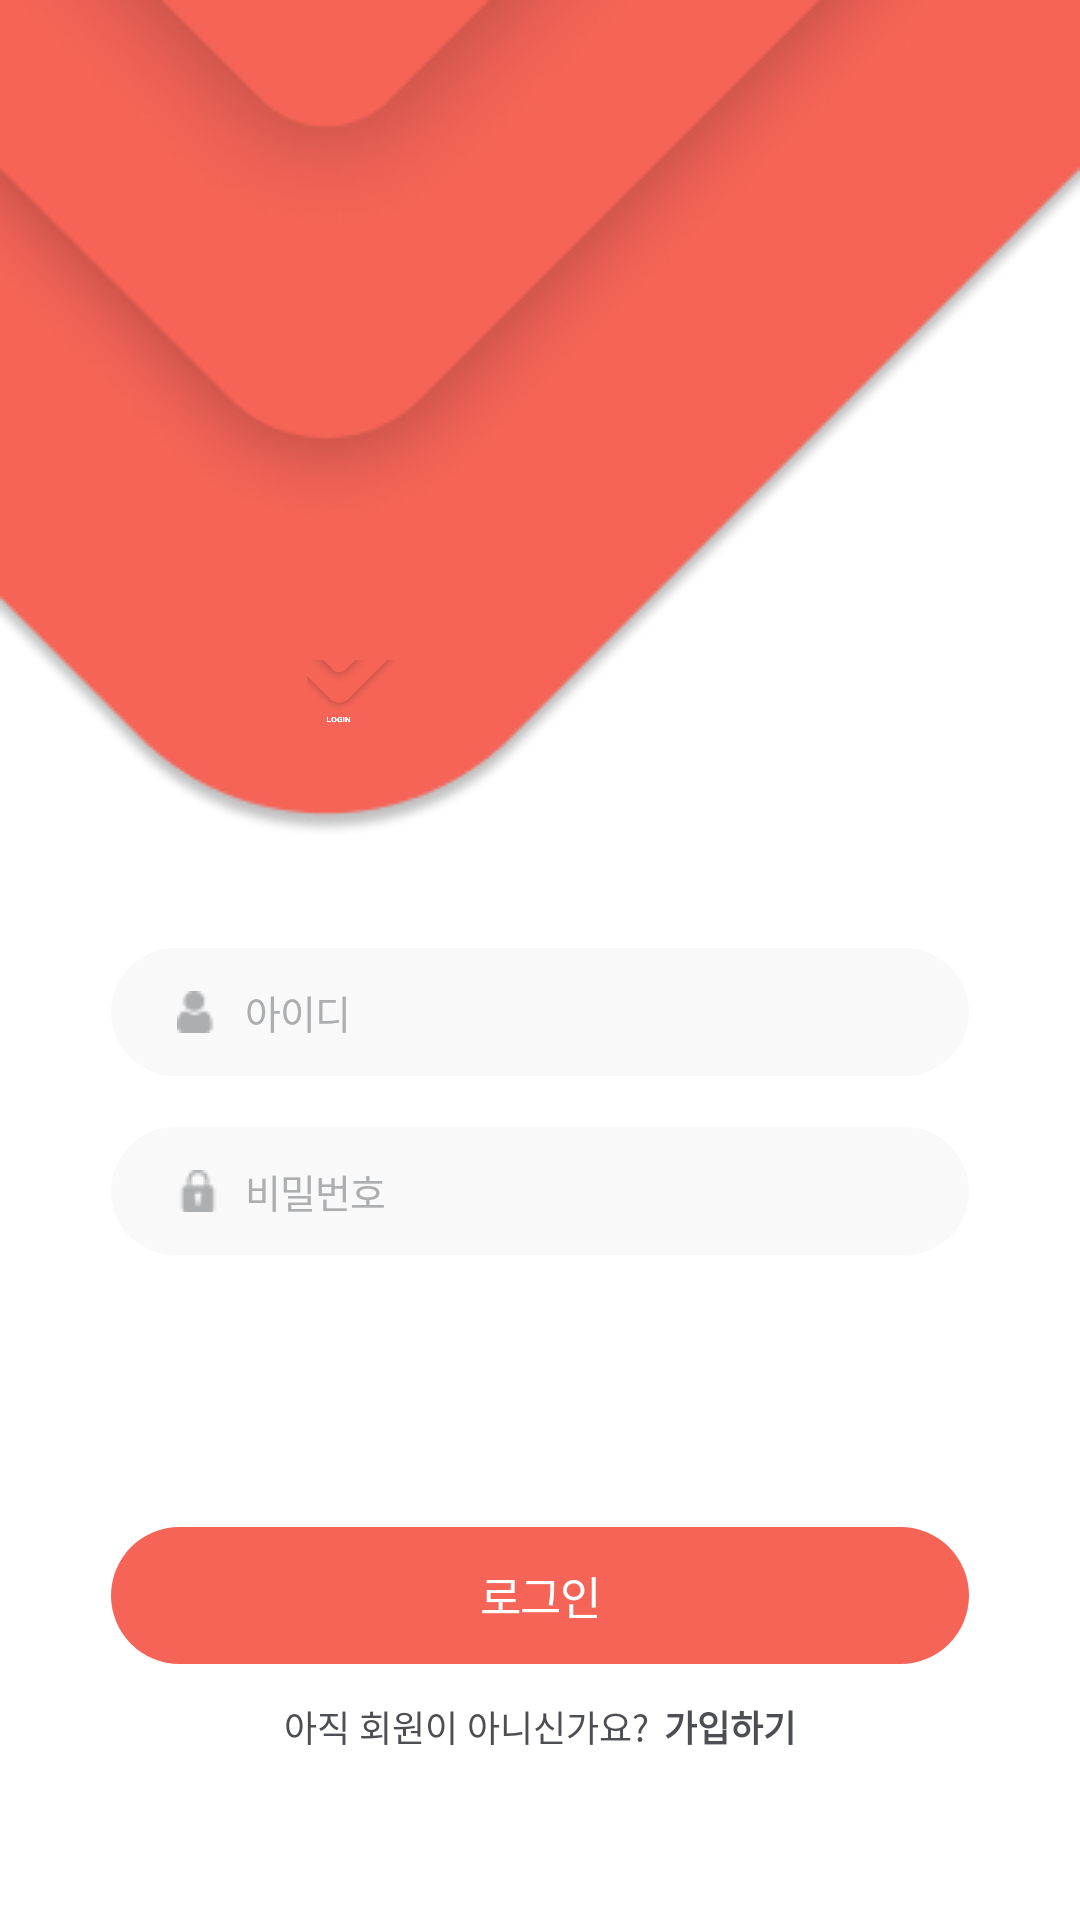

Icon bounding boxes for this 1080x1920 phone screenshot, format [left=x1, top=y1, right=x2, bottom=y2]:
padlock: [left=182, top=1170, right=214, bottom=1212]
user: [left=177, top=991, right=213, bottom=1033]
